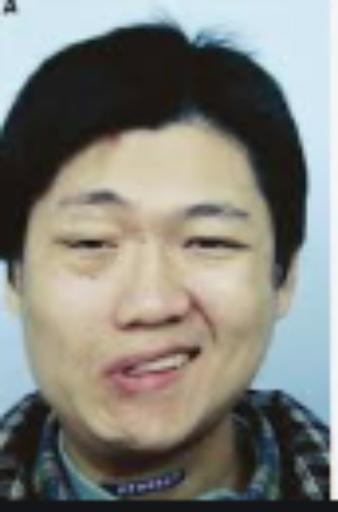left_eye: (182, 234, 247, 259)
left_lip_corner: (187, 339, 213, 364)
right_eye: (61, 236, 118, 263)
right_lip_corner: (93, 362, 119, 387)
